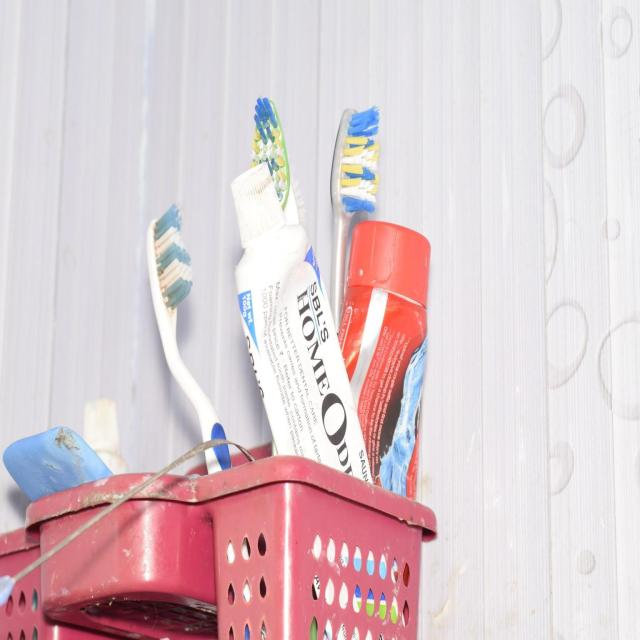Toothpaste: (230, 163, 430, 499)
